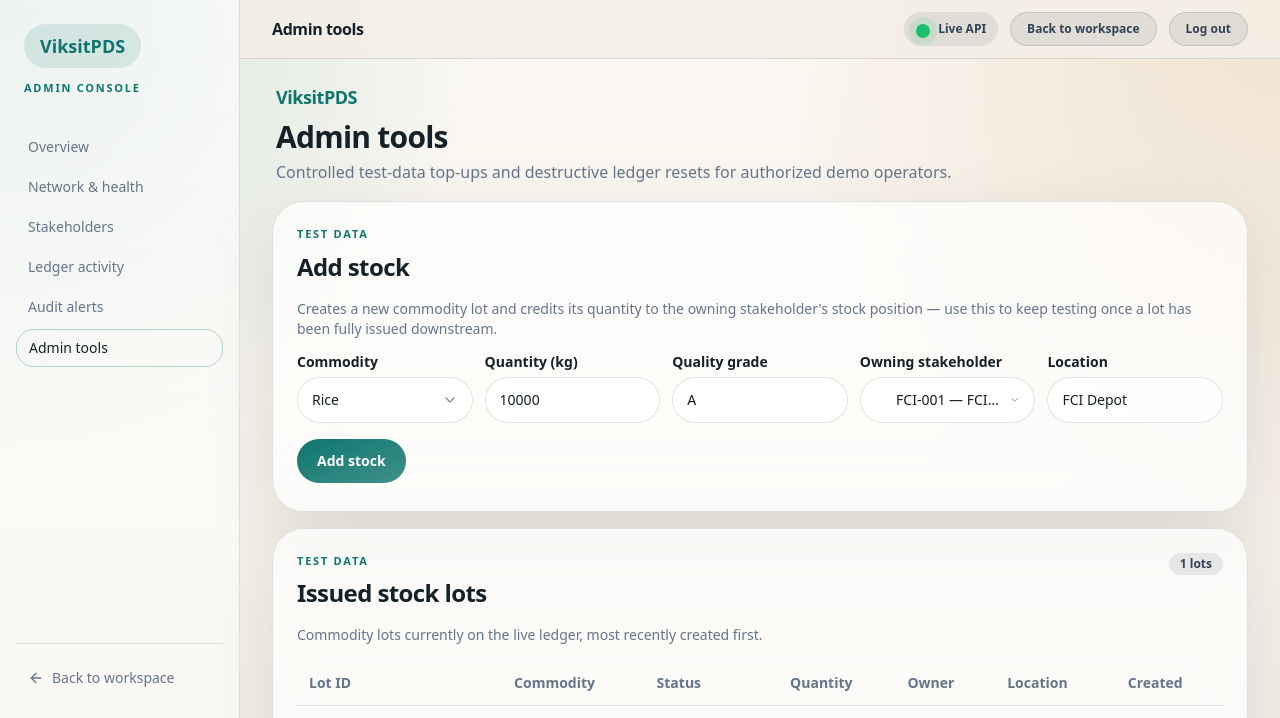
it: Admin console › lists issued stock lots and refreshes the list after adding stock
The image size is (1280, 718).
Expected: the heading "Issued stock lots" is shown, top-left (297, 577), bottom-right (487, 609)
Click the button "Add stock" at (351, 460), box top-left (297, 438), bottom-right (406, 482)
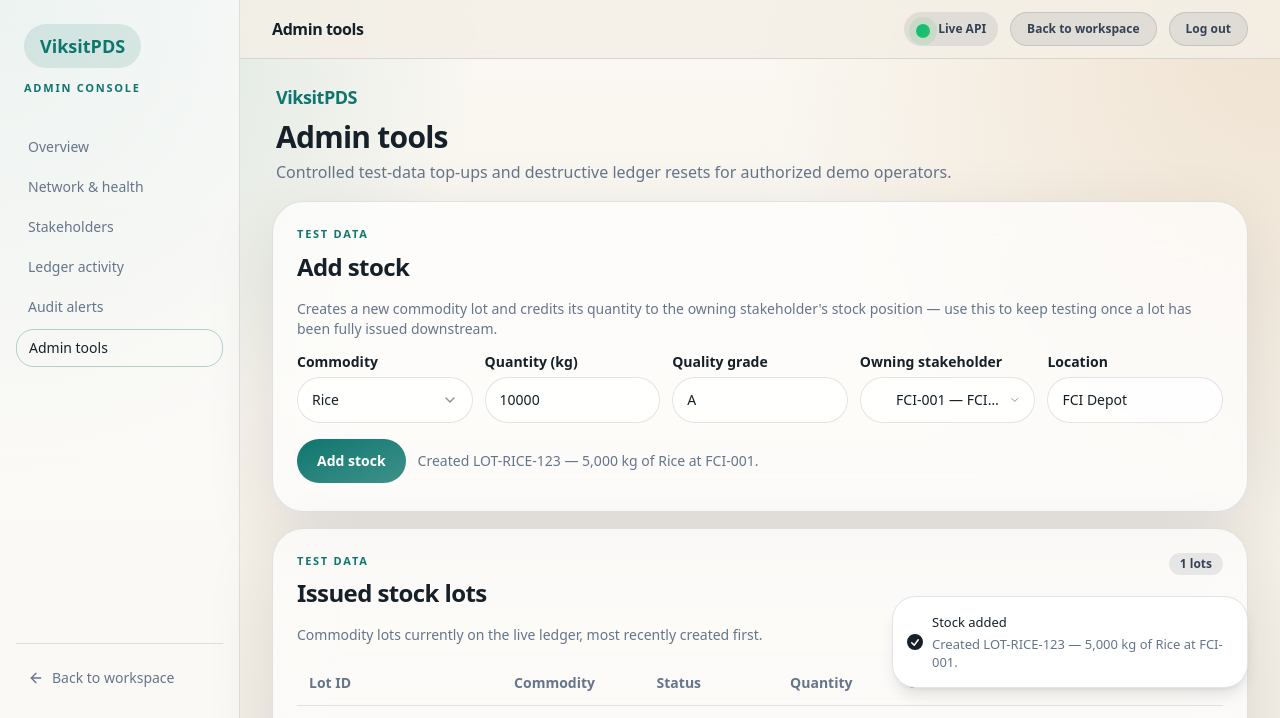
Expected: the text "Stock added" is shown, top-left (932, 613), bottom-right (1007, 631)
